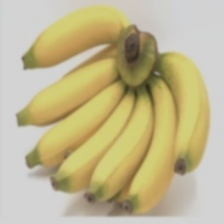banana: (13, 42, 170, 189)
